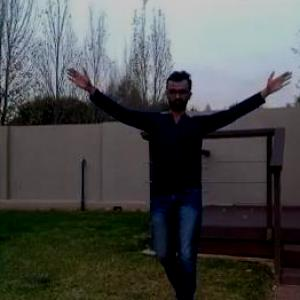takeoff: (80, 70, 294, 299)
